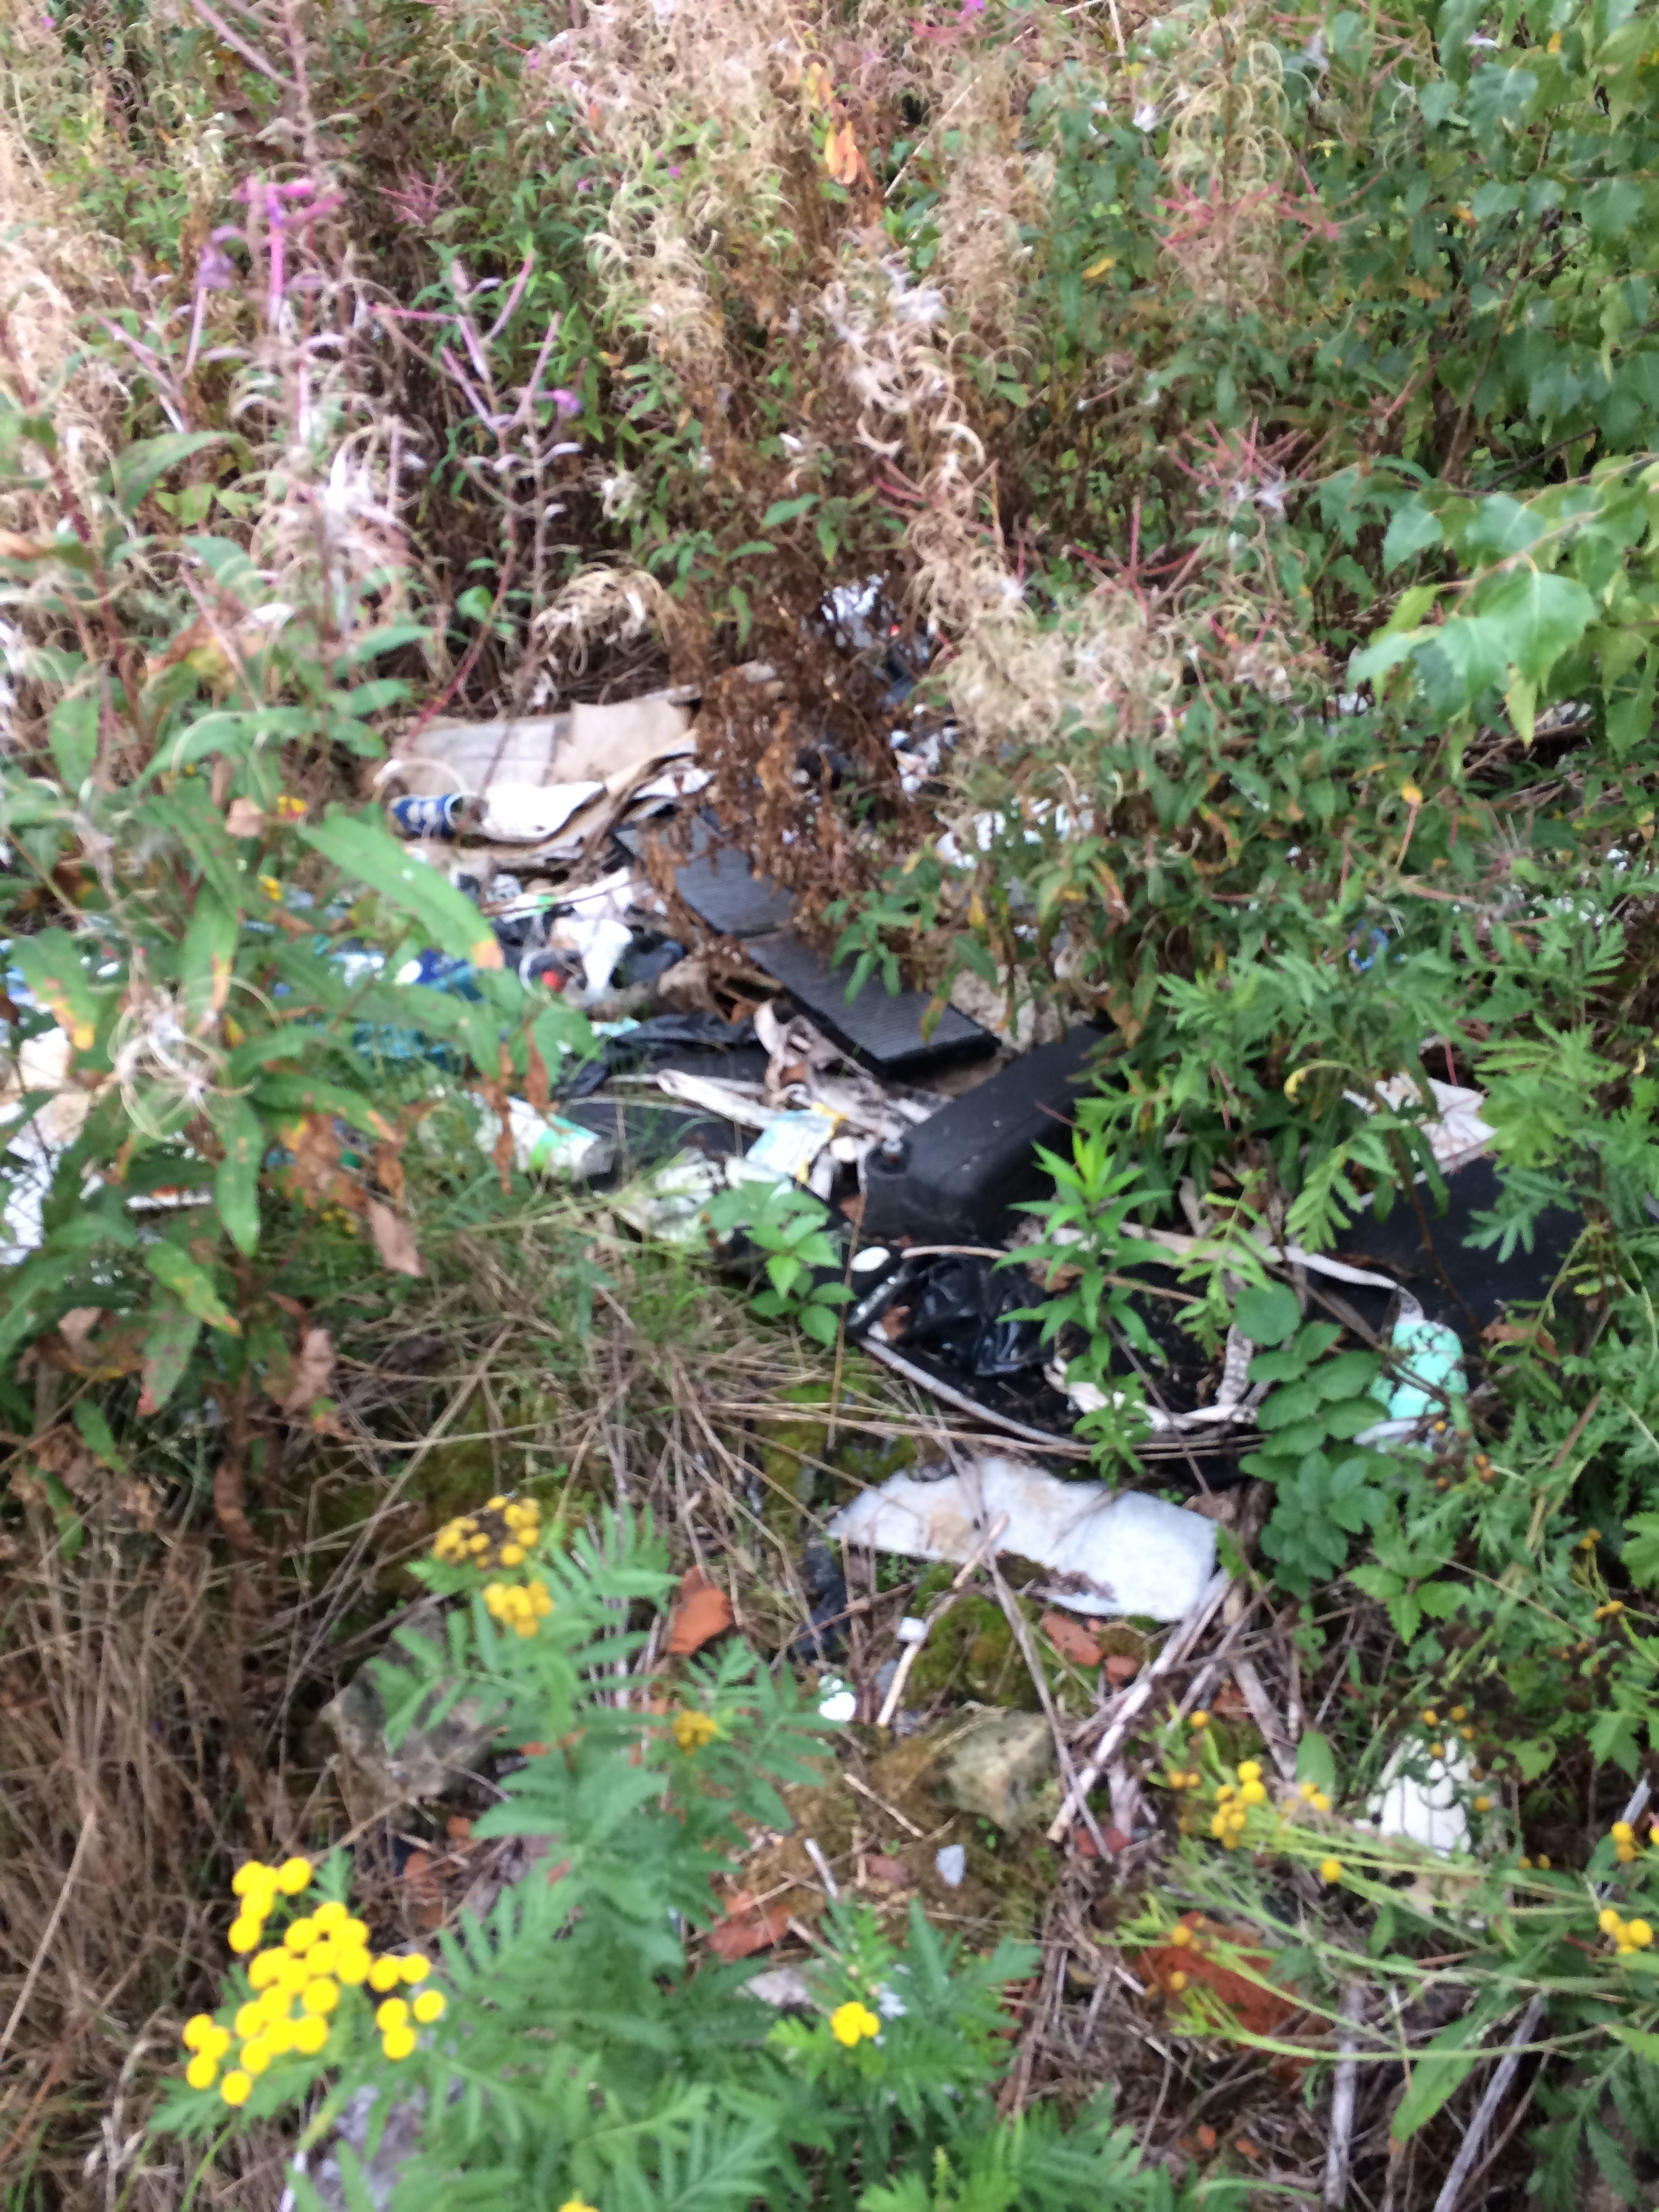trash: (244, 462, 1452, 1777)
